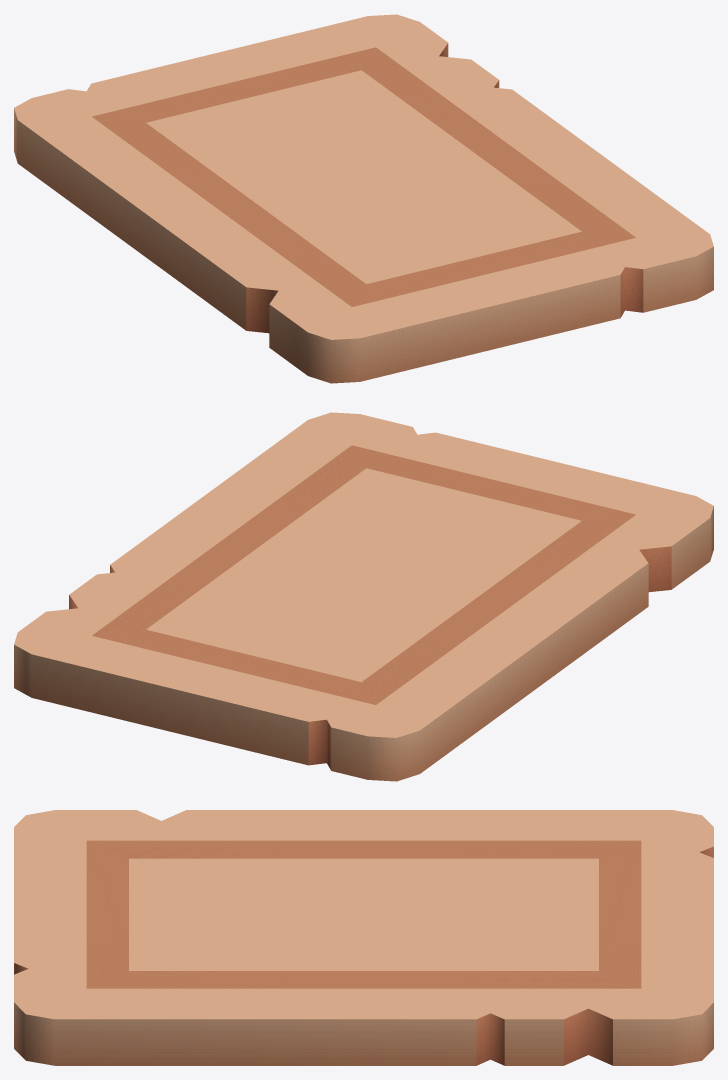
File: cutting-board.glb
3 views of the same model, one above another, from view 1: azimuth 30°, elevation 25°; view 2: azimuth 150°, elevation 25°; view 3: azimuth 270°, elevation 25° (orthographic). The views are drawn at different scales.
Parts seen in each view (by area): view 1: cutting-board; view 2: cutting-board; view 3: cutting-board.
Part boxes in pixels (left/top/right/bottom): cutting-board: left=14, top=14, right=713, bottom=383; cutting-board: left=14, top=412, right=713, bottom=781; cutting-board: left=14, top=810, right=713, bottom=1065.
Bounding box in the file's own units: 0.58 × 0.06 × 0.82.
Materials: 1 (1 with a texture image).
